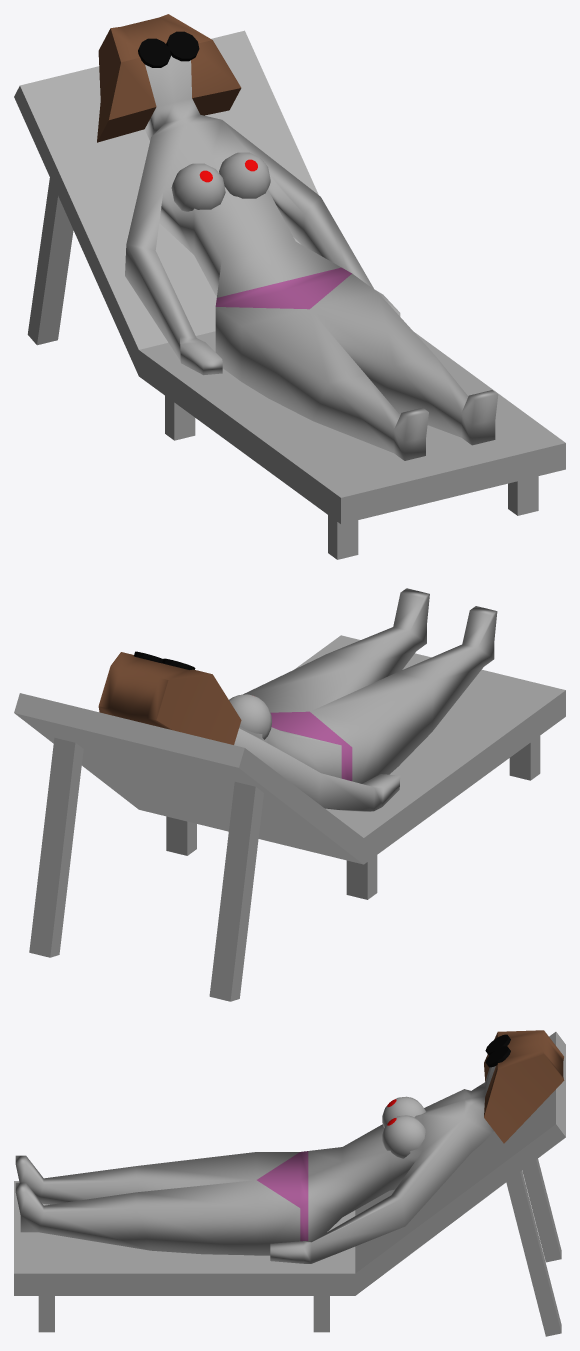
File: sunbading_lady.fbx
3 views of the same model, one above another, from view 1: azimuth 30°, elevation 25°; view 2: azimuth 150°, elevation 25°; view 3: azimuth 270°, elevation 25° (orthographic). The views are drawn at different scales.
Parts seen in each view (by area): view 1: pSphere3; view 2: pSphere3; view 3: pSphere3.
Part boxes in pixels (<box>): pSphere3: <box>14,14,565,559</box>; pSphere3: <box>14,588,565,1001</box>; pSphere3: <box>14,1030,565,1336</box>.
Bounding box in the file's own units: 128 × 163 × 321.
